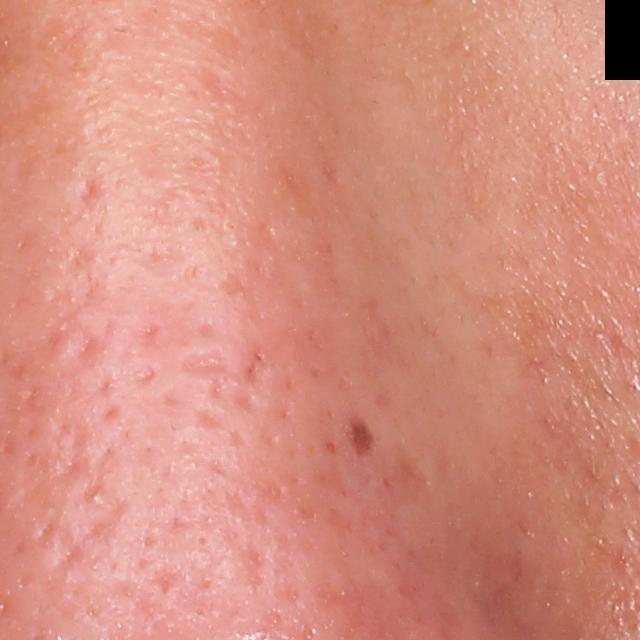atrophic_scar: (46, 305, 117, 370), (43, 403, 90, 484), (35, 508, 89, 574), (79, 440, 118, 505), (180, 348, 240, 379), (75, 165, 110, 204)
nevus: (350, 411, 378, 461)
